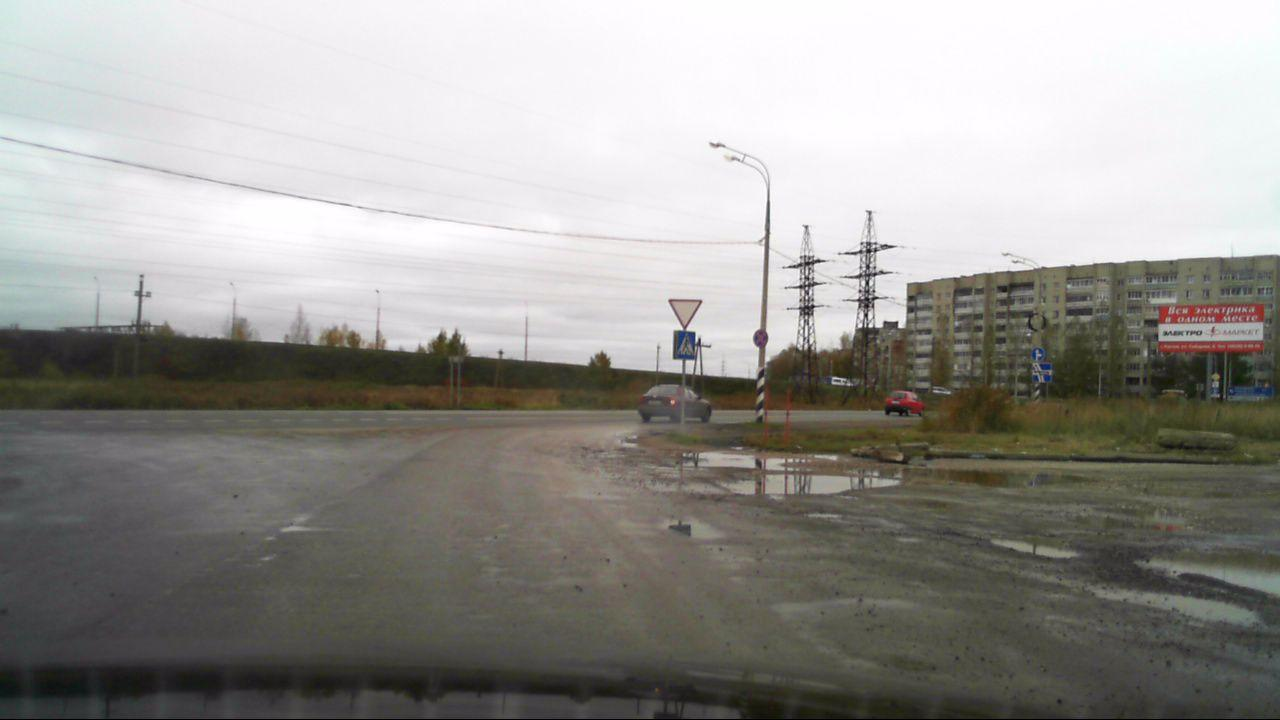road_sign: (668, 299, 703, 328), (672, 330, 696, 360), (753, 329, 769, 347), (1031, 347, 1045, 361)
